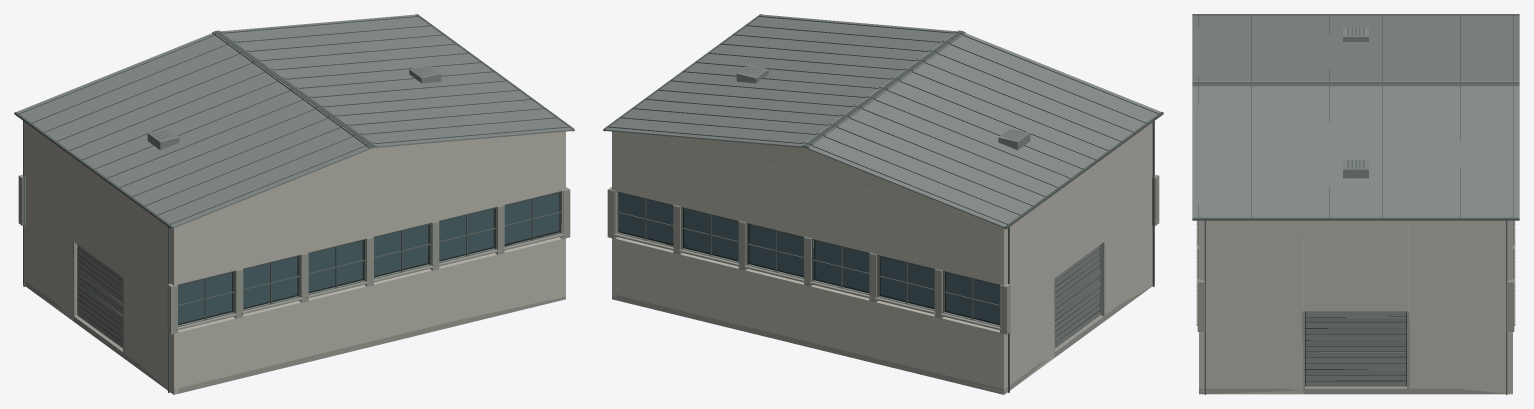
Rendered from warehouse-lod2.glb.
The picture shows the model from 3 angles, left to right: view 1: azimuth 30°, elevation 25°; view 2: azimuth 150°, elevation 25°; view 3: azimuth 270°, elevation 25°; orthographic projection. The views are drawn at different scales.
Visible parts, largest first — view 1: Foundation; view 2: Foundation; view 3: Foundation.
Boxes of the visible parts, x1=… form: Foundation: x1=14, y1=14, x2=574, y2=394; Foundation: x1=603, y1=14, x2=1163, y2=394; Foundation: x1=1192, y1=14, x2=1519, y2=394.
Bounding box in the file's own units: 37.01 × 17.9 × 24.99.
